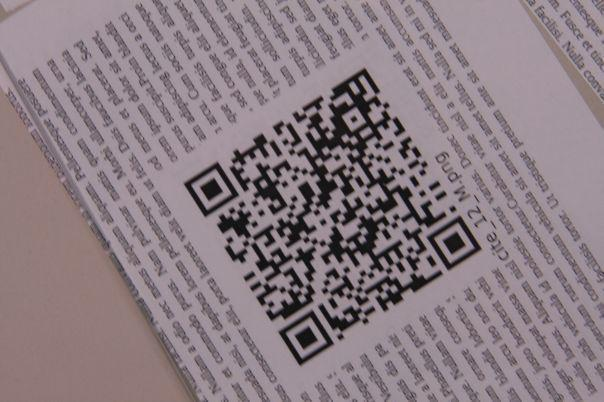qr_code: (183, 68, 482, 368)
